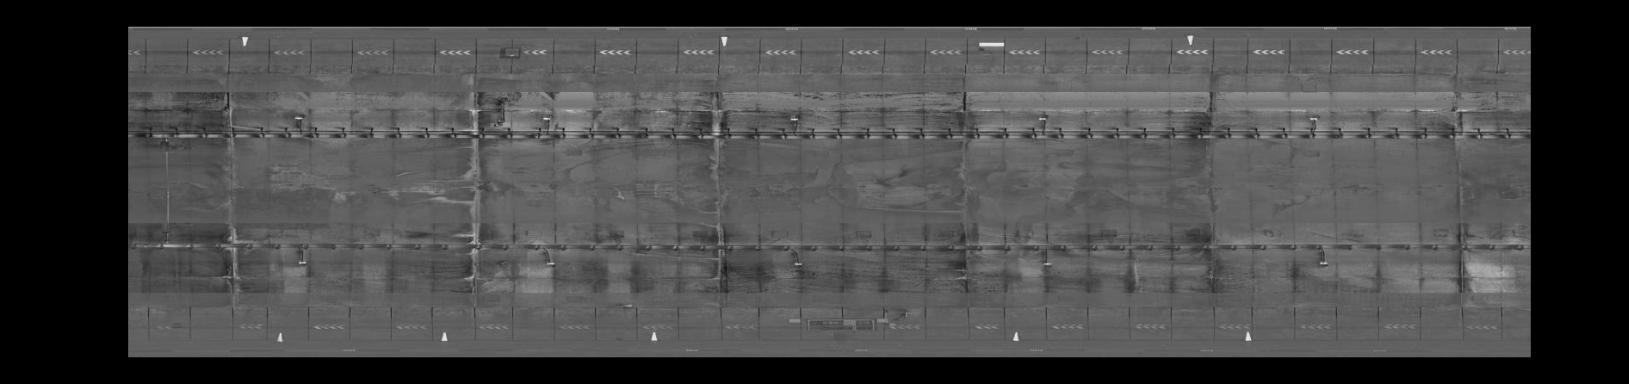light: (292, 256, 315, 271), (291, 112, 308, 124), (537, 114, 557, 124), (540, 259, 560, 269), (1315, 257, 1331, 269), (1033, 114, 1050, 124), (787, 260, 807, 269), (1038, 259, 1054, 269), (1304, 115, 1321, 124), (787, 114, 803, 124)
